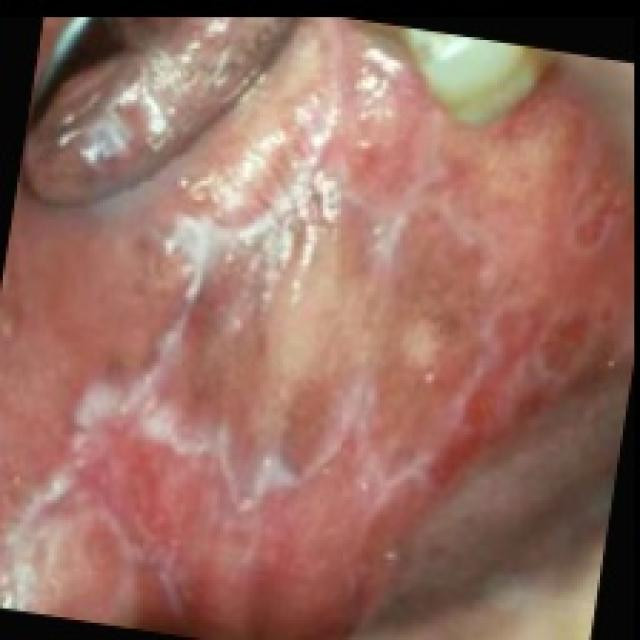leukoplakia-like-detection: (19, 69, 610, 622)
processing_area: (0, 22, 635, 637)
